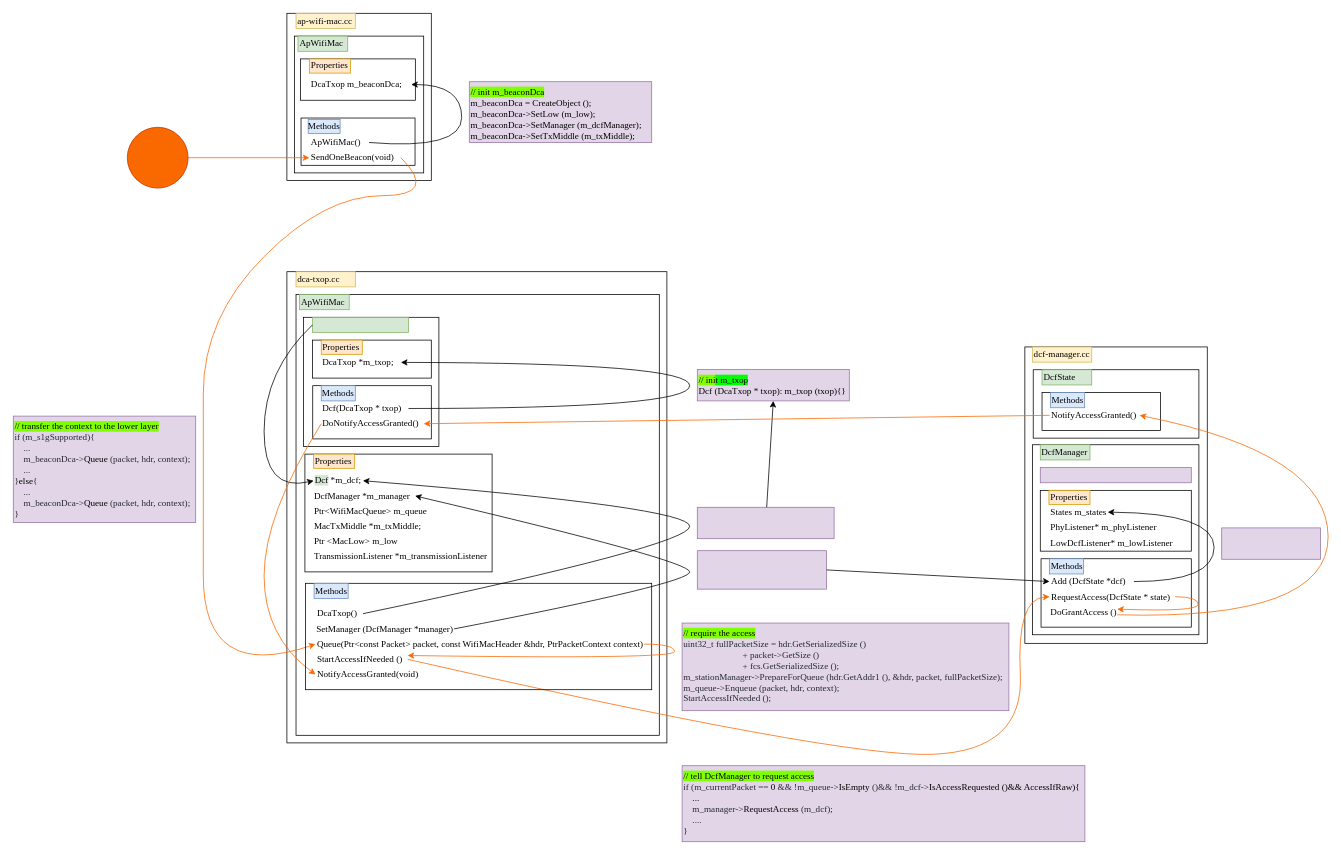
Some shapes in this 1341 by 861 pixel diagram are drawn without their labels. The centre of each missing label's shape, as x and y in pixels:
// add a state m_states.push_back (dcf);: [1270,543]
// bind the m_manager & m_dcf m_manager = manager; m_manager-> Add (m_dcf);: [761,569]
// ini t m_dcf m_dcf = new DcaTxop::Dcf (this);: [765,523]
Dcf: public DcfState: [360,324]
START: [157,157]
typedef std::vector<DcfState *> States;: [1115,475]
